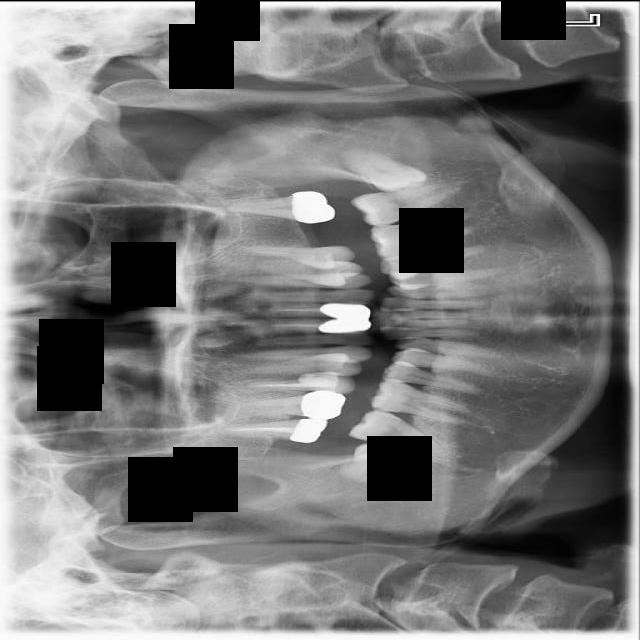52: (298, 366, 357, 396), (299, 387, 347, 421), (291, 189, 336, 224), (289, 418, 328, 442), (319, 301, 371, 319), (318, 317, 372, 334)
73: (265, 301, 330, 316), (269, 317, 333, 332), (245, 377, 313, 390), (568, 13, 590, 21)
BioHorizons Implant: (223, 178, 338, 227)
Biomet 3i Implant: (334, 137, 428, 204)
Blue Sky Bio Implant: (349, 179, 454, 230)
Caries: (219, 417, 327, 442)
Implant: (348, 403, 450, 457)
Keystone Dental Implant: (339, 440, 415, 485)
